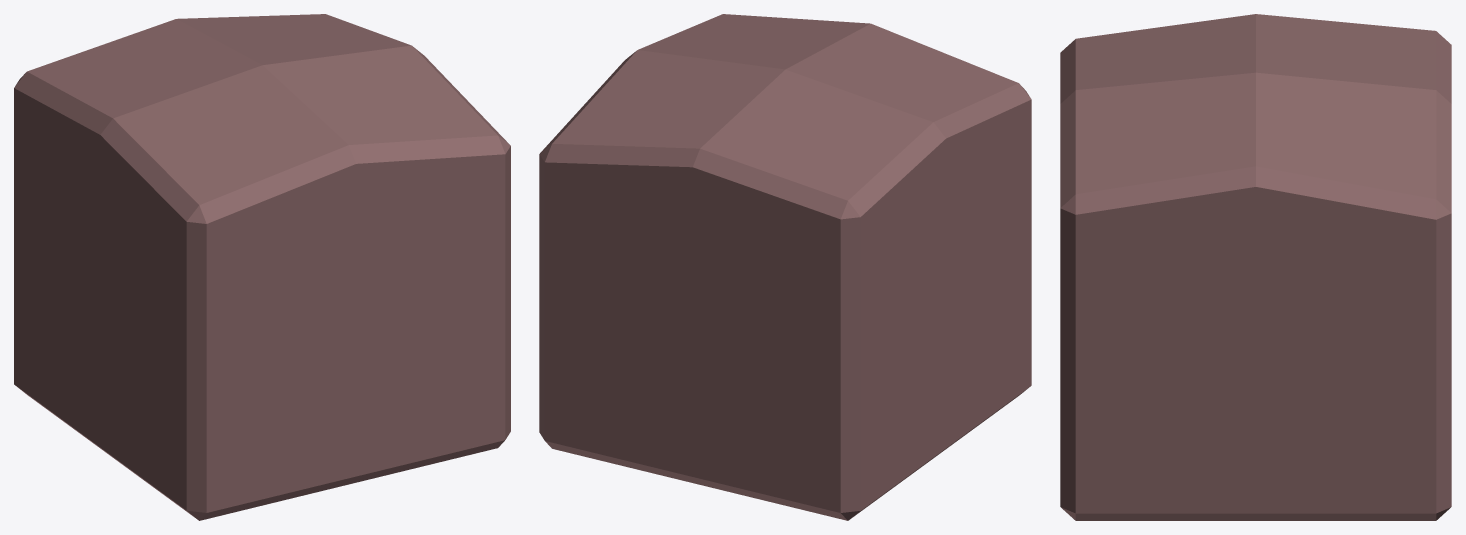
File: Pouf1.glb
The picture shows the model from 3 angles, left to right: view 1: azimuth 30°, elevation 25°; view 2: azimuth 150°, elevation 25°; view 3: azimuth 270°, elevation 25°; orthographic projection. The views are drawn at different scales.
Parts seen in each view (by area): view 1: Pouf1; view 2: Pouf1; view 3: Pouf1.
Boxes of the visible parts, left/top/right/bottom form: Pouf1: left=14, top=14, right=510, bottom=520; Pouf1: left=539, top=14, right=1031, bottom=520; Pouf1: left=1060, top=14, right=1451, bottom=520.
Bounding box in the file's own units: 0.7298 × 0.7658 × 0.7298.
